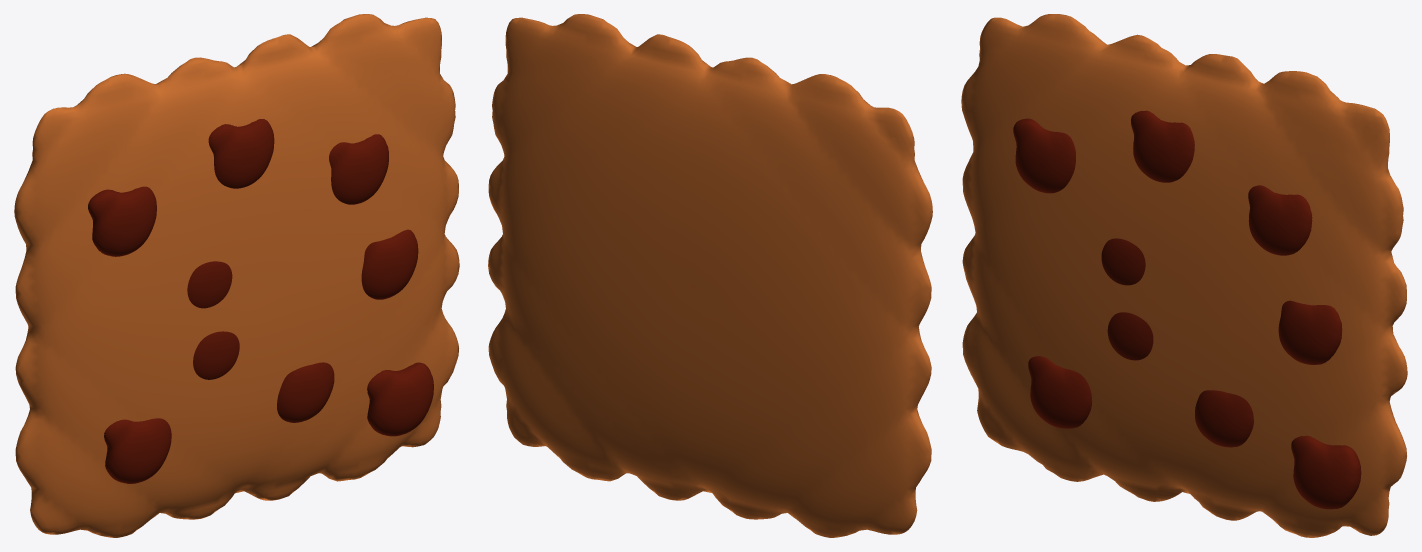
Rendered from cookie.fbx.
The picture shows the model from 3 angles, left to right: view 1: azimuth 30°, elevation 25°; view 2: azimuth 150°, elevation 25°; view 3: azimuth 330°, elevation 25°; orthographic projection.
Parts seen in each view (by area): view 1: node_id151, node_id136 (×9); view 2: node_id151; view 3: node_id151, node_id136 (×9).
Boxes of the visible parts, box(x1,y1,x2,y2) form: node_id151: box(14, 14, 459, 537); node_id136 (×9): box(88, 119, 433, 483); node_id151: box(488, 14, 932, 537); node_id151: box(961, 14, 1407, 537); node_id136 (×9): box(1013, 110, 1361, 509).
Size of the model in its own units: 0.1287 by 0.1288 by 0.018.
10 materials, 10 textured.
